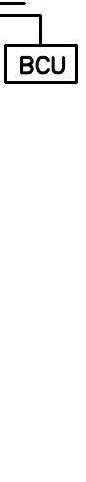BCU: (3, 43, 79, 85)
